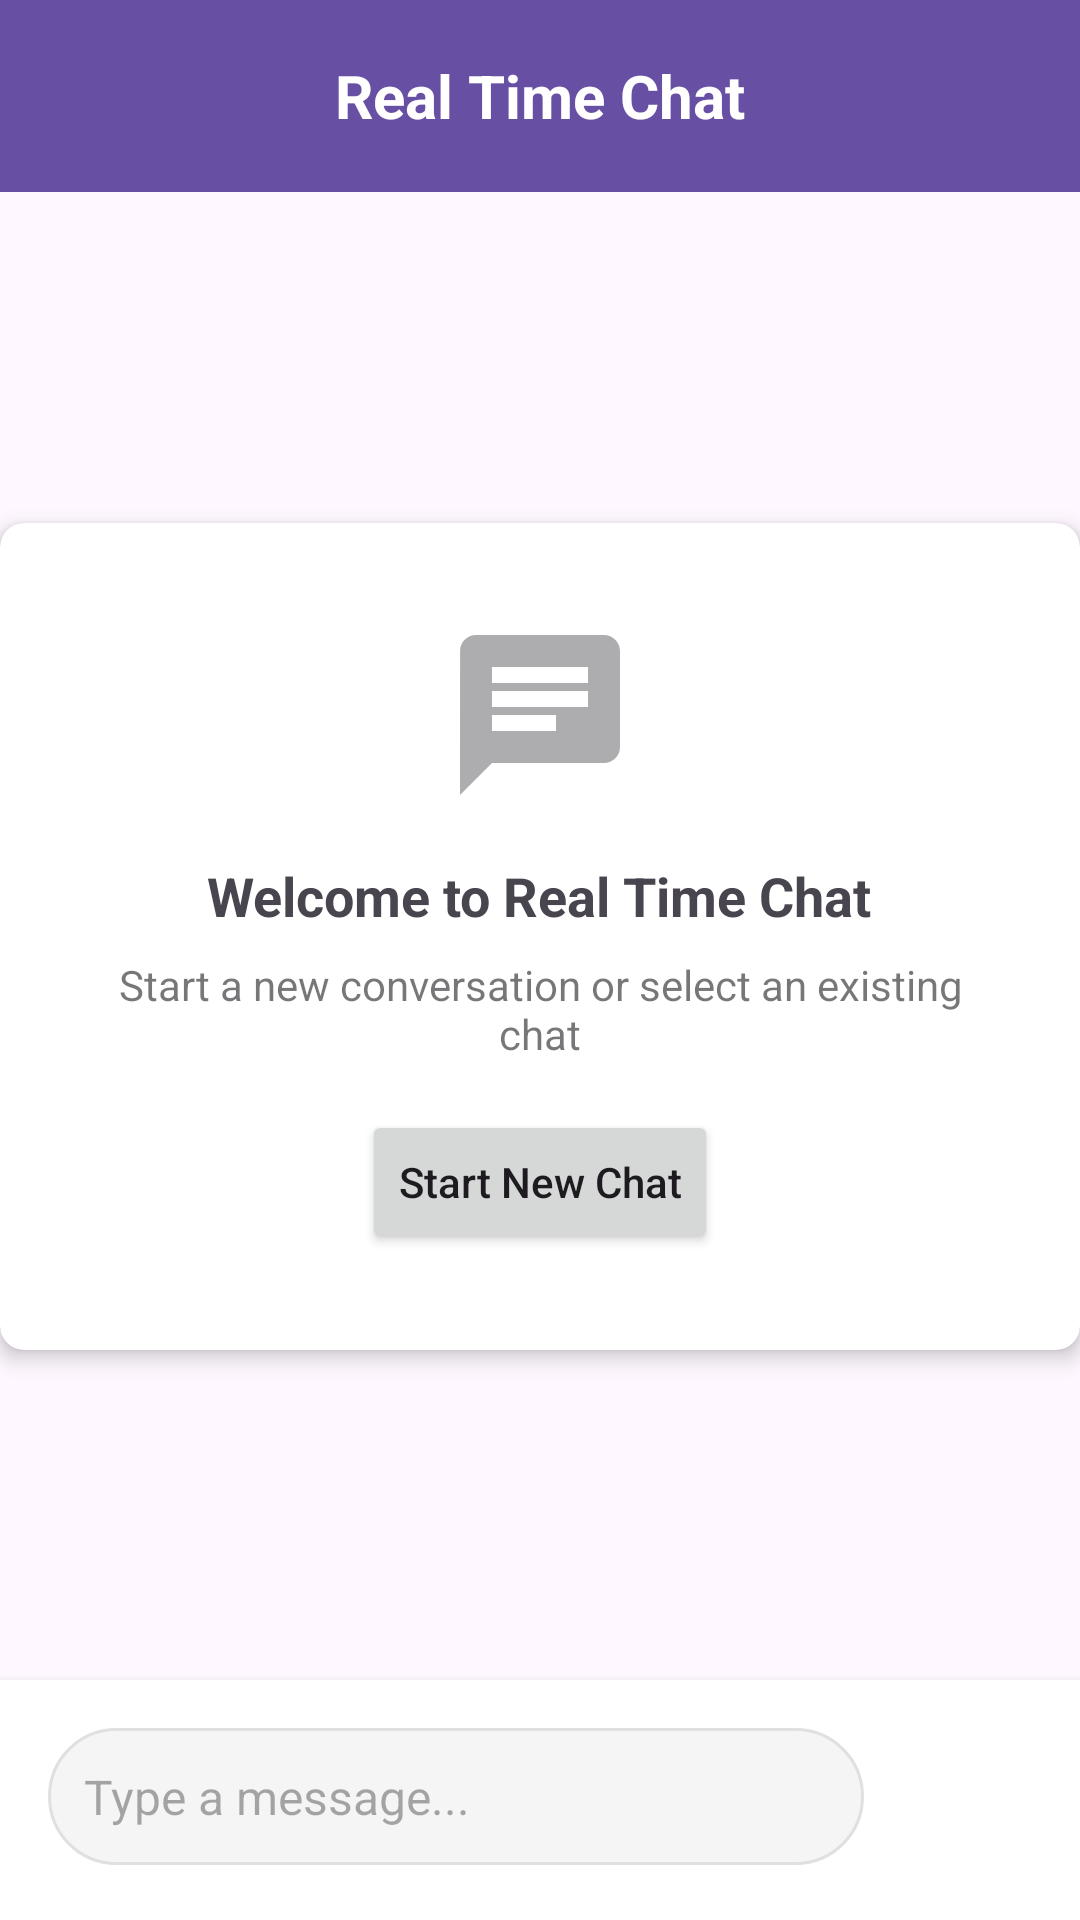

Screen size 1080 x 1920. Icon name, then its box in pixels as (x1,y1,x2,y2):
chat bubble: (460,635,620,795)
